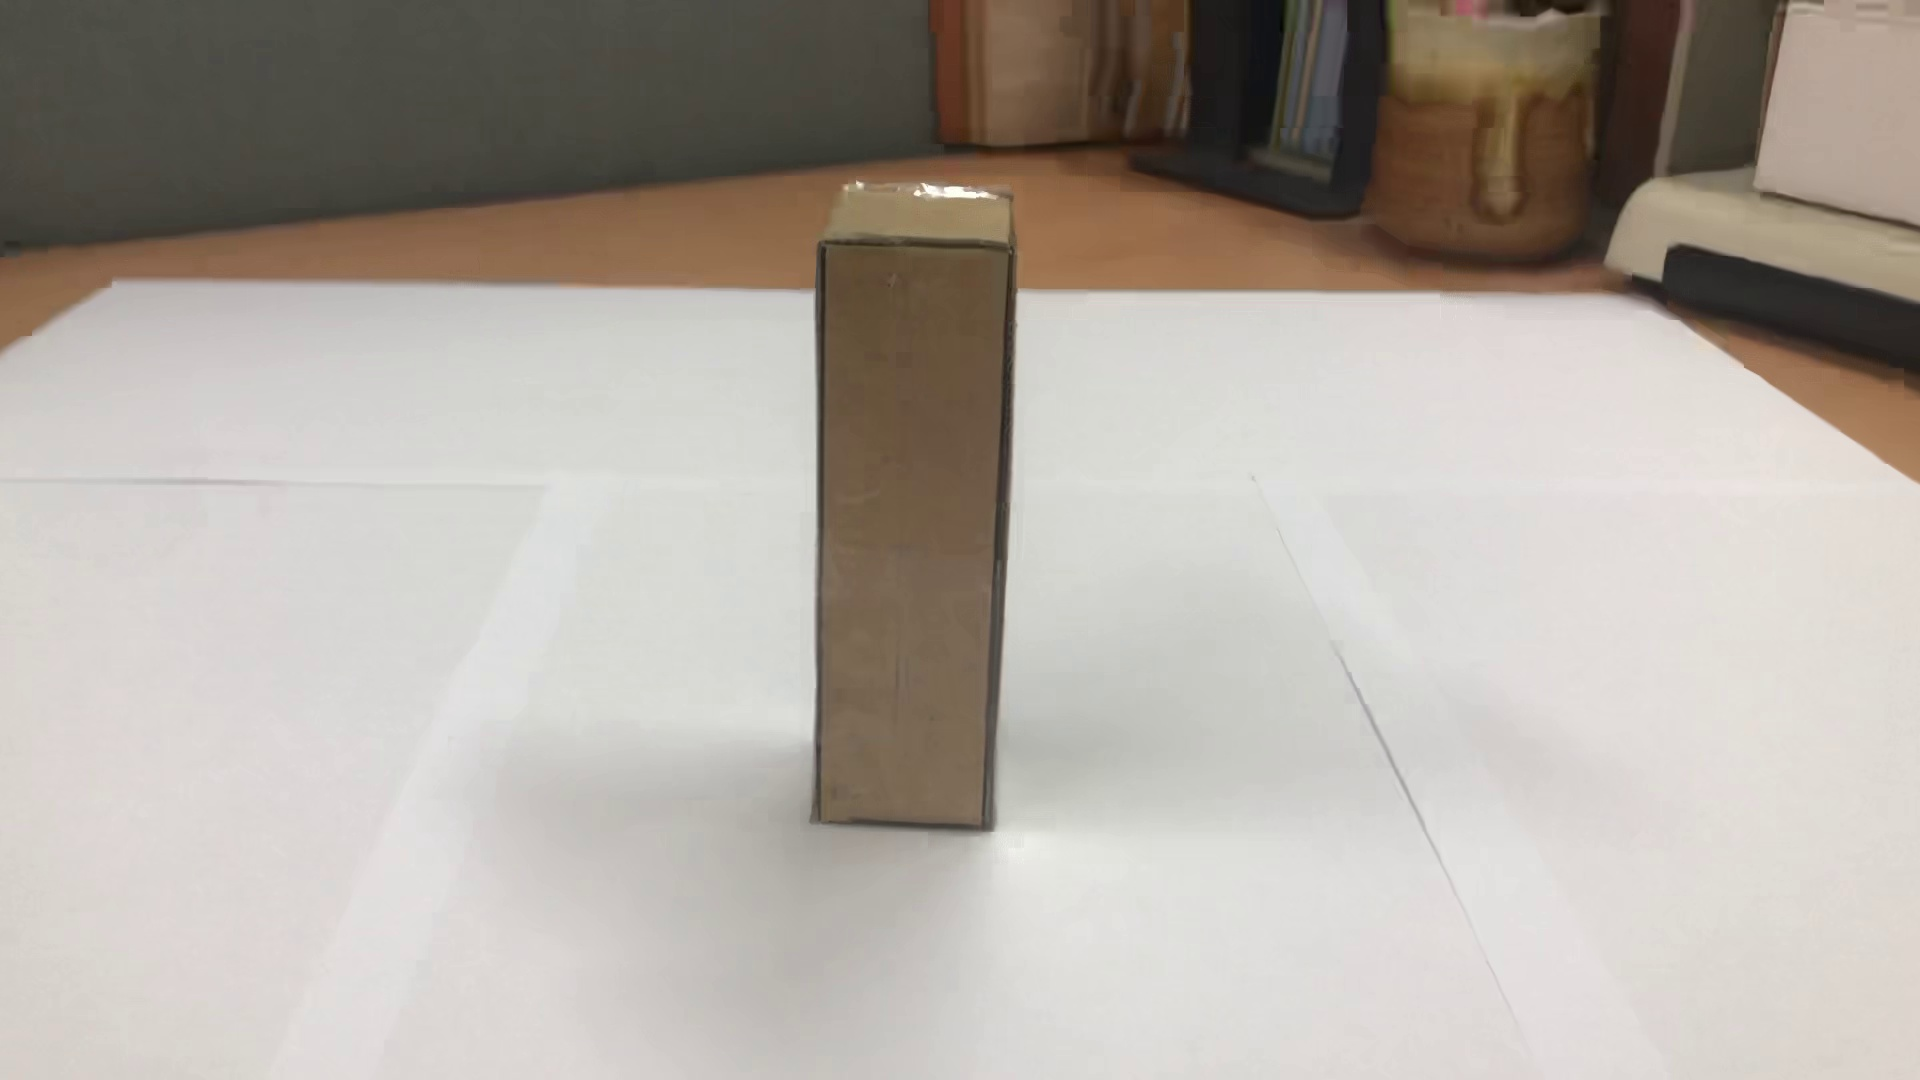box: (796, 142, 1043, 885)
